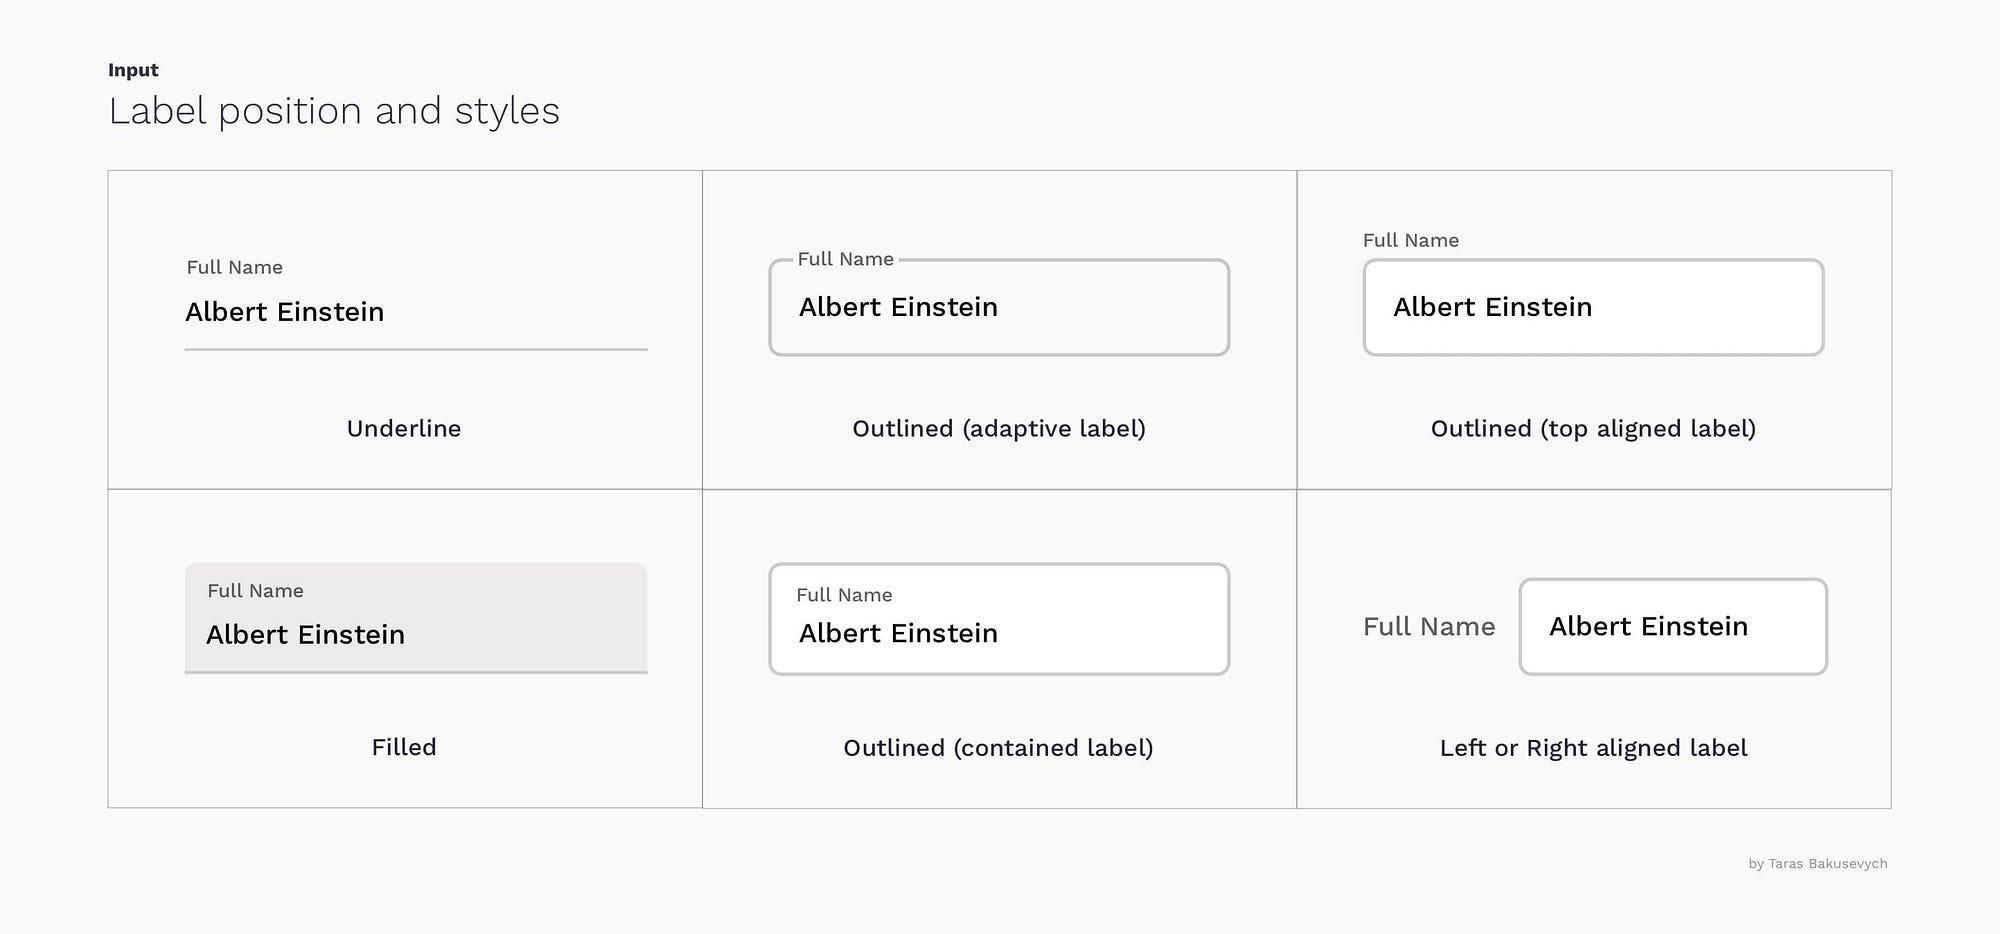input: (186, 561, 651, 675), (770, 567, 1233, 680), (1367, 256, 1827, 360), (768, 259, 1232, 359), (1520, 581, 1830, 676)
label: (1351, 602, 1505, 647), (800, 248, 901, 277), (177, 260, 298, 281), (1361, 230, 1460, 254)
